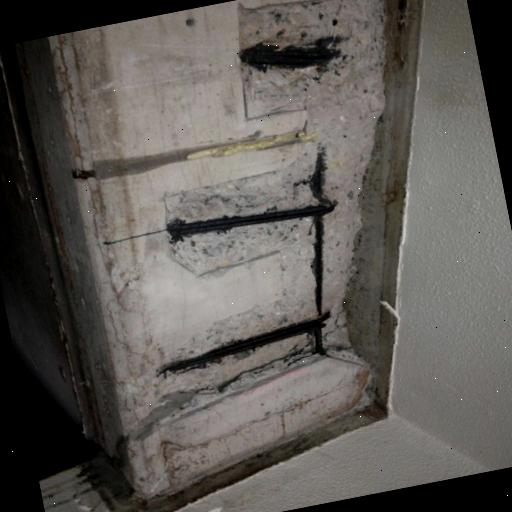spalling: (145, 0, 380, 397)
